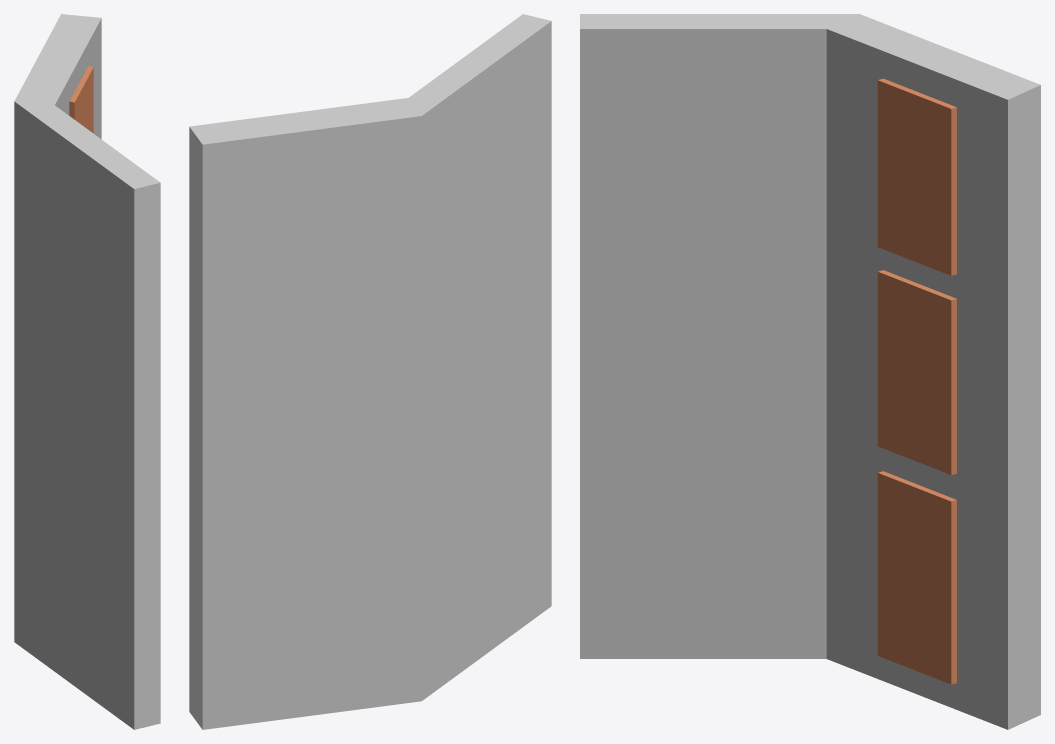
3 views of the same model, side by side, from view 1: azimuth 30°, elevation 25°; view 2: azimuth 150°, elevation 25°; view 3: azimuth 270°, elevation 25° (orthographic). The views are drawn at different scales.
Visible parts, largest first — view 1: 立方体.001; view 2: 立方体.001; view 3: 立方体.001.
Part boxes in pixels (box(x1,y1,x2,y2)): 立方体.001: box(14, 14, 160, 729); 立方体.001: box(189, 14, 551, 729); 立方体.001: box(580, 14, 1040, 729).
Size of the model in its own units: 384 by 1315 by 871.
